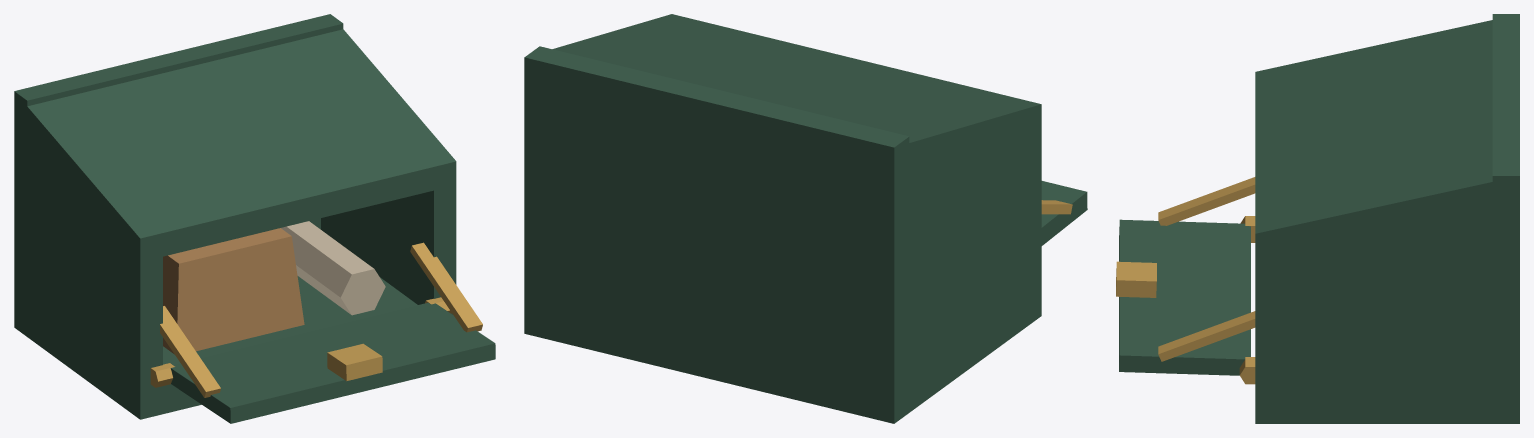
File: FN_Bin_Bread.glb
The picture shows the model from 3 angles, left to right: view 1: azimuth 30°, elevation 25°; view 2: azimuth 150°, elevation 25°; view 3: azimuth 270°, elevation 25°; orthographic projection. The views are drawn at different scales.
Parts seen in each view (by area): view 1: FN_Bin_Bread; view 2: FN_Bin_Bread; view 3: FN_Bin_Bread.
Part boxes in pixels (x1,y1,x2,y2): FN_Bin_Bread: [14, 14, 495, 423]; FN_Bin_Bread: [524, 14, 1087, 423]; FN_Bin_Bread: [1116, 14, 1519, 423].
Bounding box in the file's own units: 0.42 × 0.3 × 0.4426.
1 material, 1 textured.
